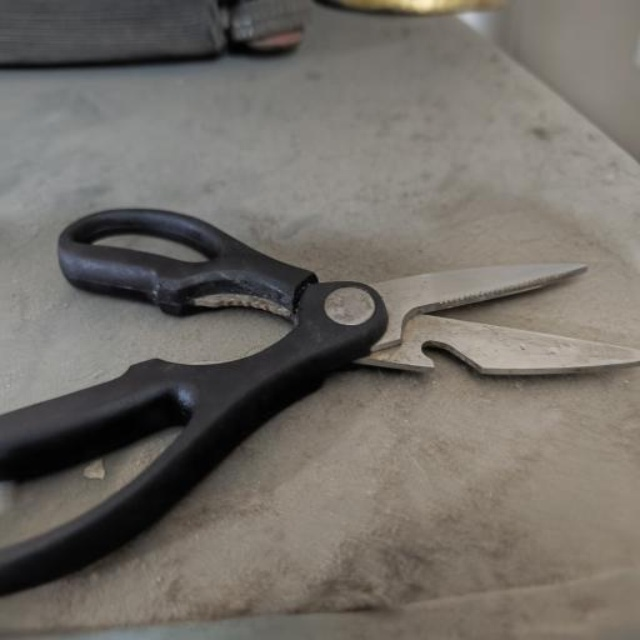scissor: (0, 208, 640, 635)
